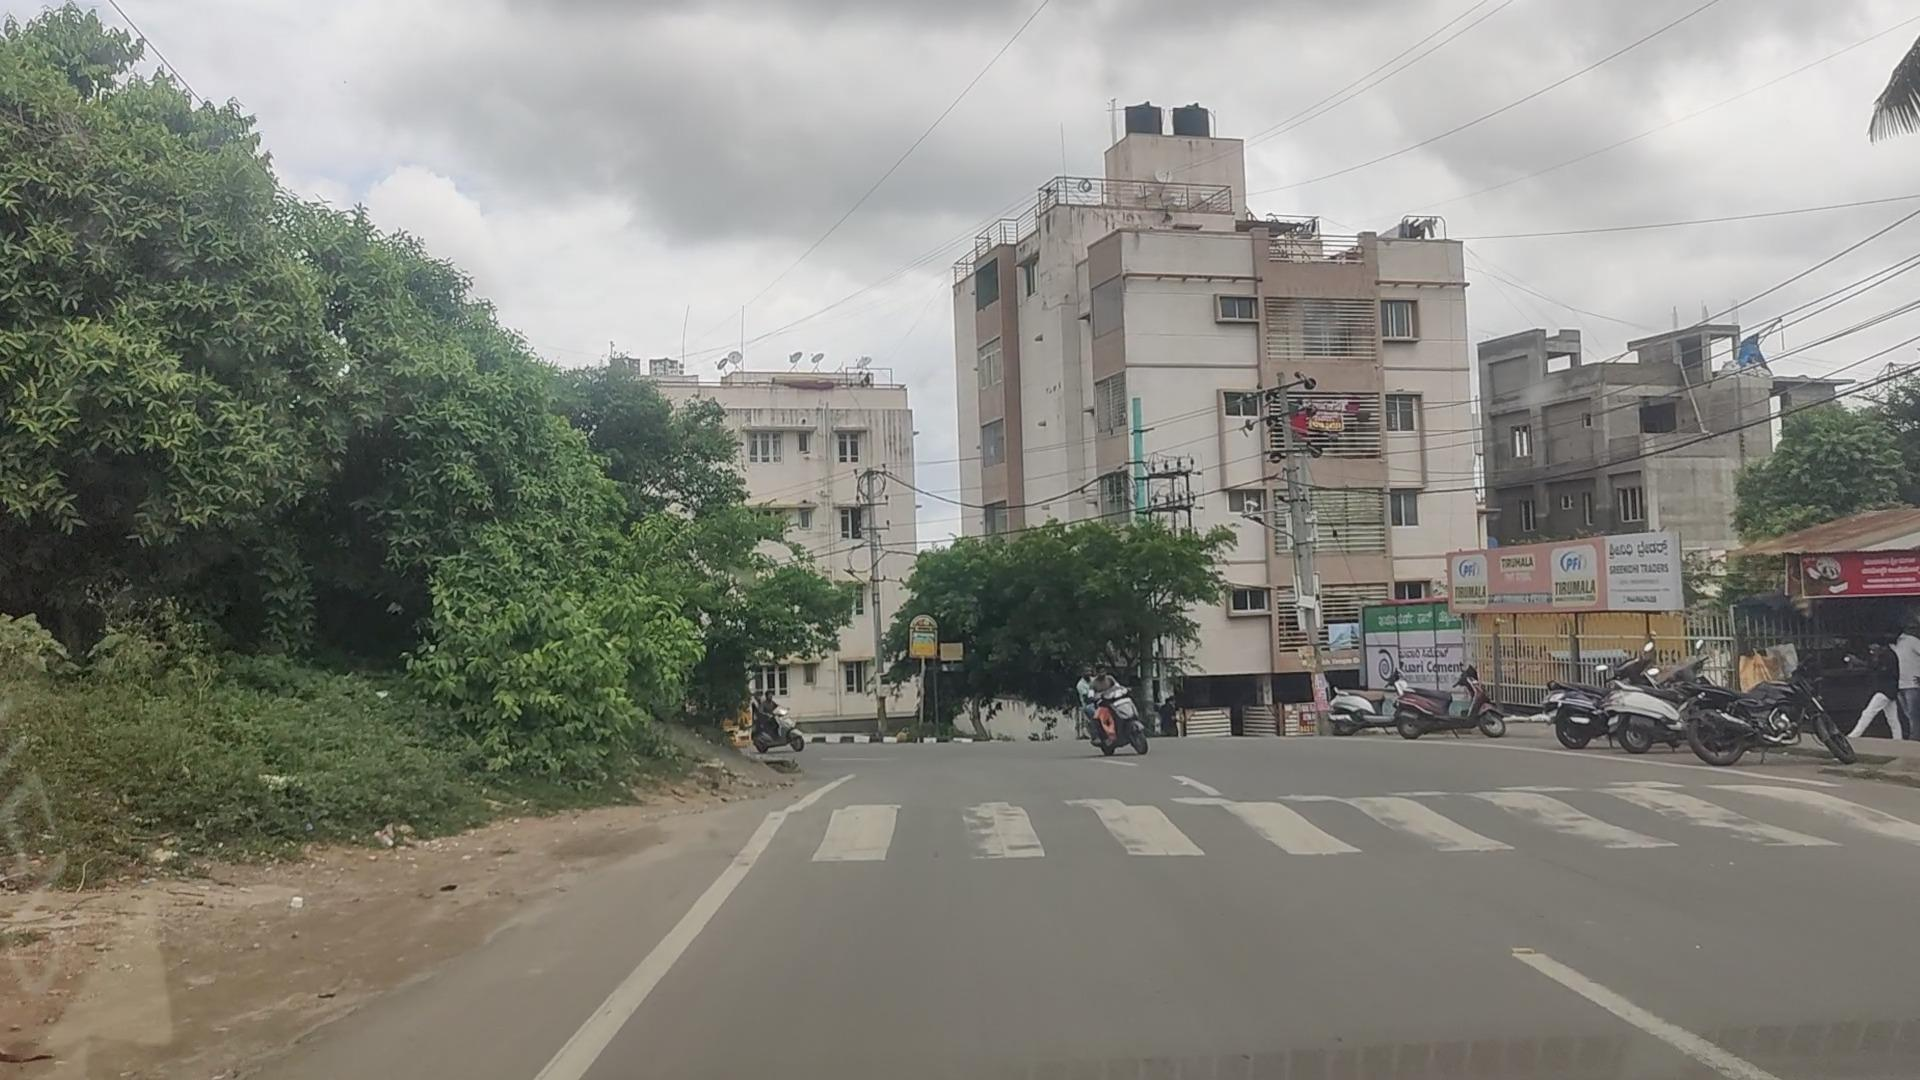SpeedBump: (811, 762, 1837, 848)
